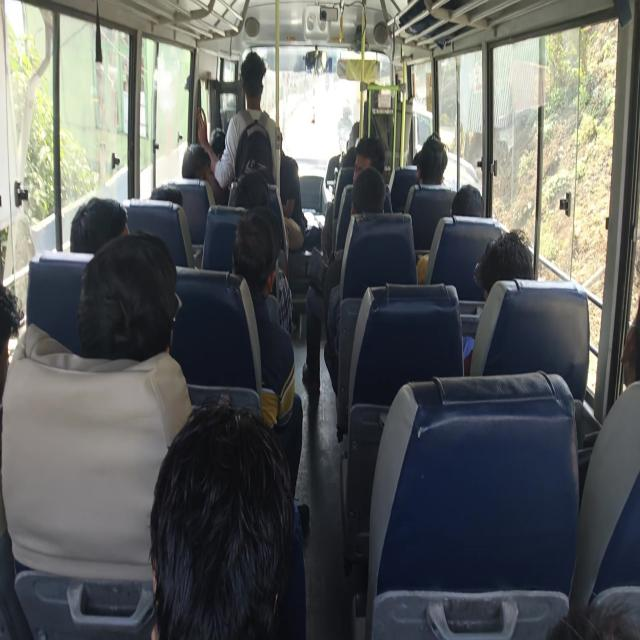person: (0, 230, 194, 636), (149, 398, 306, 638), (230, 206, 310, 536), (302, 136, 386, 395), (77, 230, 179, 362), (196, 51, 283, 200), (461, 228, 535, 374), (416, 184, 484, 284), (473, 228, 535, 302), (70, 196, 130, 254), (182, 142, 228, 206), (413, 132, 449, 187), (451, 184, 484, 217), (149, 182, 183, 206)
